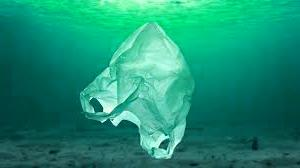Trash: (64, 23, 202, 158)
